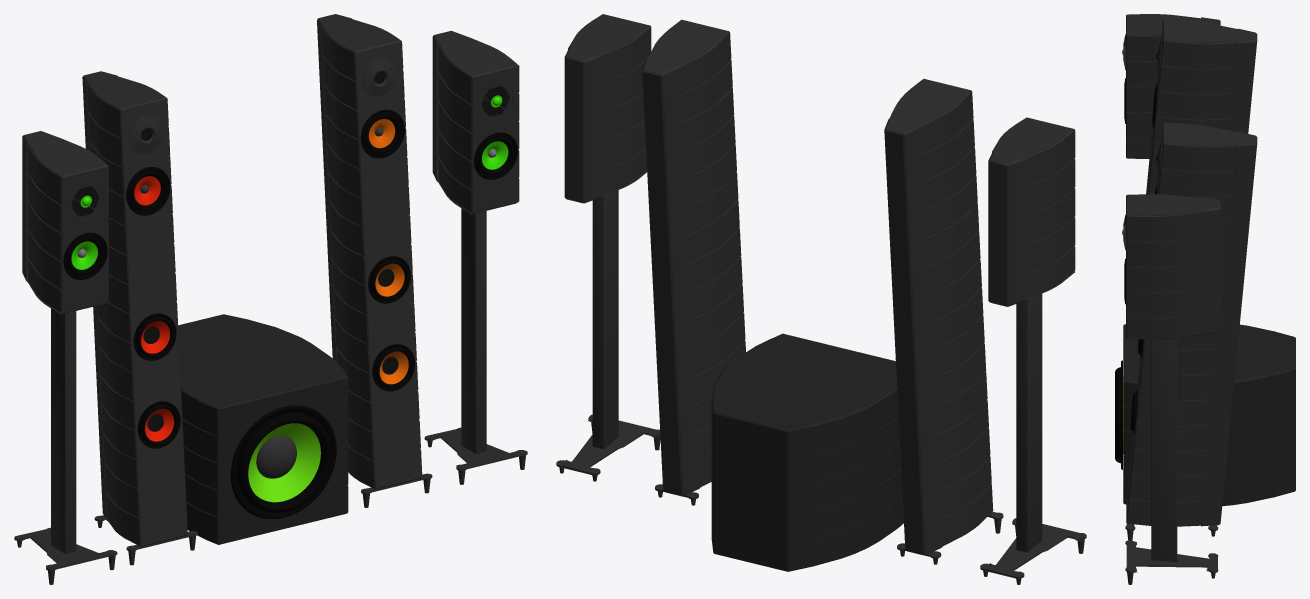
Rendered from device.fbx.
The picture shows the model from 3 angles, left to right: view 1: azimuth 30°, elevation 25°; view 2: azimuth 150°, elevation 25°; view 3: azimuth 270°, elevation 25°; orthographic projection. The views are drawn at different scales.
Visible parts, largest first — view 1: sub; view 2: sub; view 3: sub.
Boxes of the visible parts, box(x1,y1,x2,y2) form: sub: box(14, 14, 527, 584); sub: box(556, 14, 1086, 584); sub: box(1115, 14, 1295, 584).
Size of the model in its own units: 90.31 by 79.12 by 32.7.
10 materials, 10 textured.
